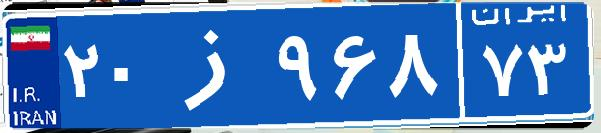0: (110, 28, 158, 105)
2: (57, 26, 110, 107)
3: (525, 38, 570, 115)
6: (330, 28, 385, 110)
7: (475, 38, 525, 113)
8: (385, 28, 445, 110)
9: (273, 28, 330, 110)
ز: (158, 15, 273, 115)
